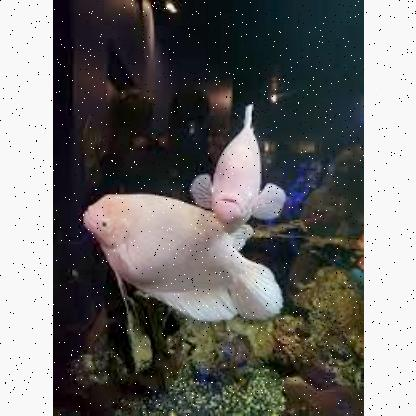gurame: (81, 194, 287, 324), (192, 106, 292, 236)
